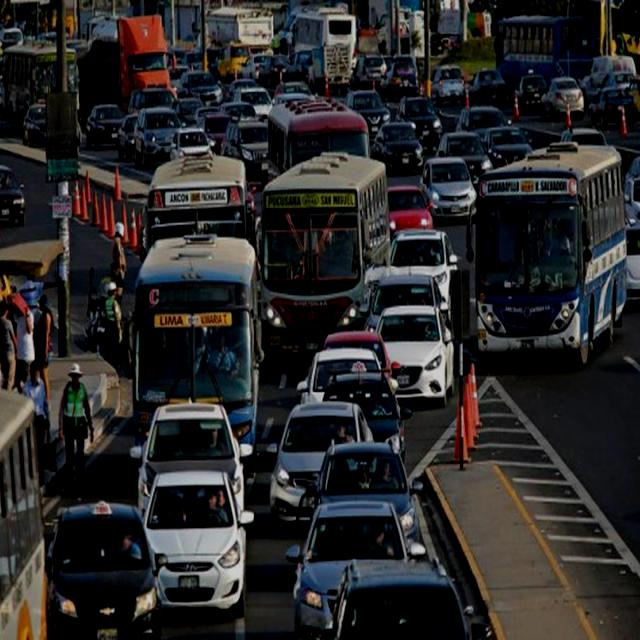BUS: (478, 144, 631, 360), (128, 242, 256, 459), (259, 162, 388, 357), (0, 387, 44, 640)
